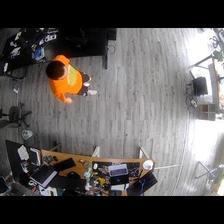normal: (45, 55, 97, 104)
